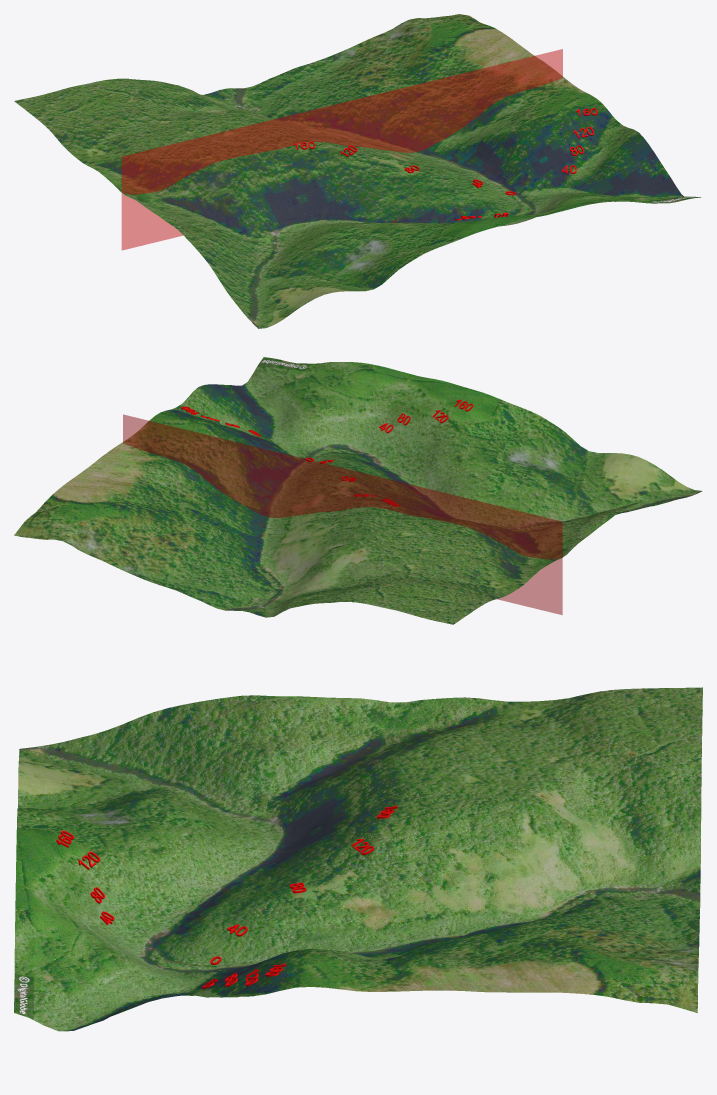
The model's file is SaoJoseAusentes2a.gltf.
3 views of the same model, one above another, from view 1: azimuth 30°, elevation 25°; view 2: azimuth 150°, elevation 25°; view 3: azimuth 270°, elevation 25° (orthographic). The views are drawn at different scales.
Visible parts, largest first — view 1: root; view 2: root; view 3: root.
Boxes of the visible parts, x1=… form: root: x1=14, y1=14, x2=700, y2=328; root: x1=14, y1=357, x2=702, y2=624; root: x1=14, y1=687, x2=702, y2=1031.
Size of the model in its own units: 2014 by 406 by 1950.
3 materials, 1 textured.
